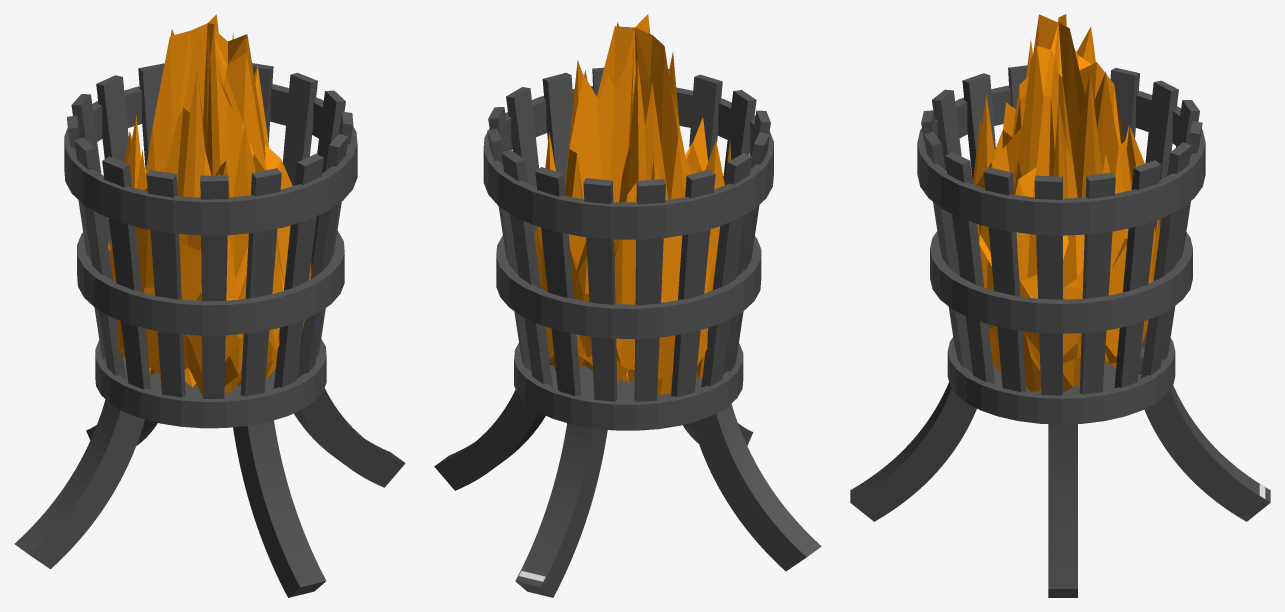
File: Eldkorg.fbx
The picture shows the model from 3 angles, left to right: view 1: azimuth 30°, elevation 25°; view 2: azimuth 150°, elevation 25°; view 3: azimuth 270°, elevation 25°; orthographic projection.
Visible parts, largest first — view 1: Metal, Fire, Cube.004, Cube, Cube.003; view 2: Metal, Fire, Cube.004, Cube.001, Cube.003; view 3: Metal, Fire, Cube, Cube.001, Cube.003.
Boxes of the visible parts, x1,y1,x2,y2 form: Metal: (64, 63, 357, 428); Fire: (108, 14, 311, 395); Cube.004: (14, 399, 144, 568); Cube: (233, 420, 326, 597); Cube.003: (294, 388, 405, 487); Metal: (483, 67, 773, 430); Fire: (534, 14, 731, 395); Cube.004: (692, 403, 821, 571); Cube.001: (515, 423, 607, 597); Cube.003: (434, 361, 551, 490); Metal: (917, 65, 1205, 424); Fire: (957, 14, 1159, 391); Cube: (850, 383, 976, 521); Cube.001: (1138, 357, 1270, 521); Cube.003: (1048, 424, 1077, 597).
Size of the model in its own units: 417 by 539 by 411.
